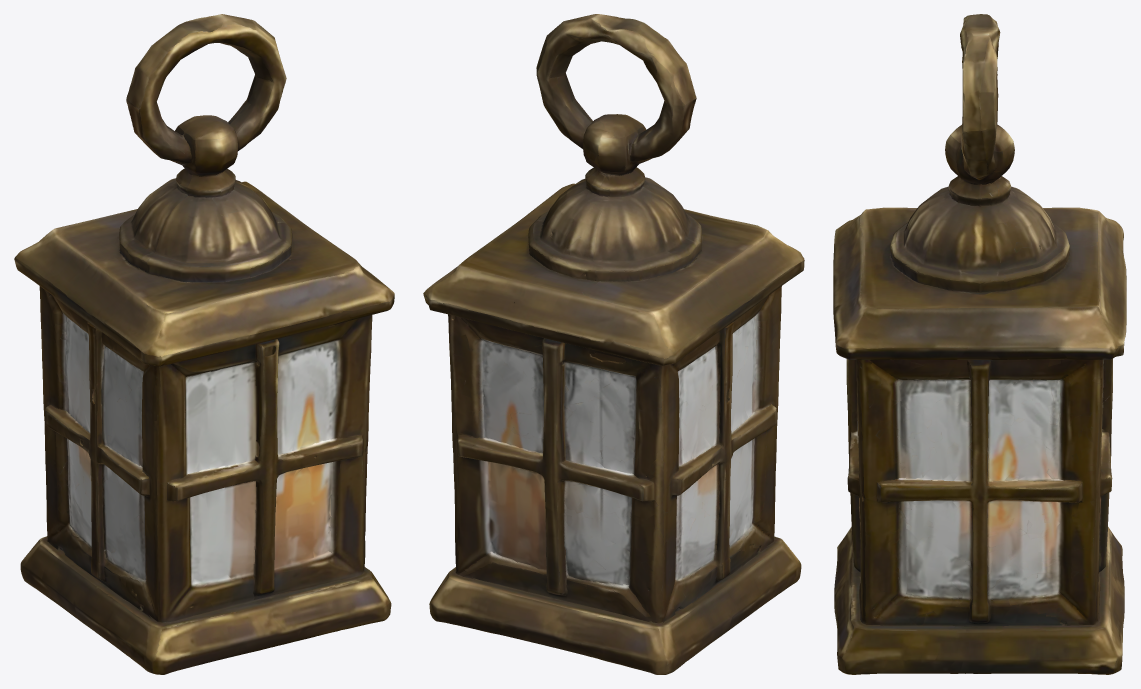
The model's file is lantern.glb.
The picture shows the model from 3 angles, left to right: view 1: azimuth 30°, elevation 25°; view 2: azimuth 150°, elevation 25°; view 3: azimuth 270°, elevation 25°; orthographic projection. The views are drawn at different scales.
Parts seen in each view (by area): view 1: geometry_0; view 2: geometry_0; view 3: geometry_0.
Boxes of the visible parts, x1,y1,x2,y2 form: geometry_0: [14, 14, 394, 674]; geometry_0: [423, 14, 804, 674]; geometry_0: [833, 14, 1126, 674].
Size of the model in its own units: 0.1465 by 0.32 by 0.1442.
1 material, 1 textured.
